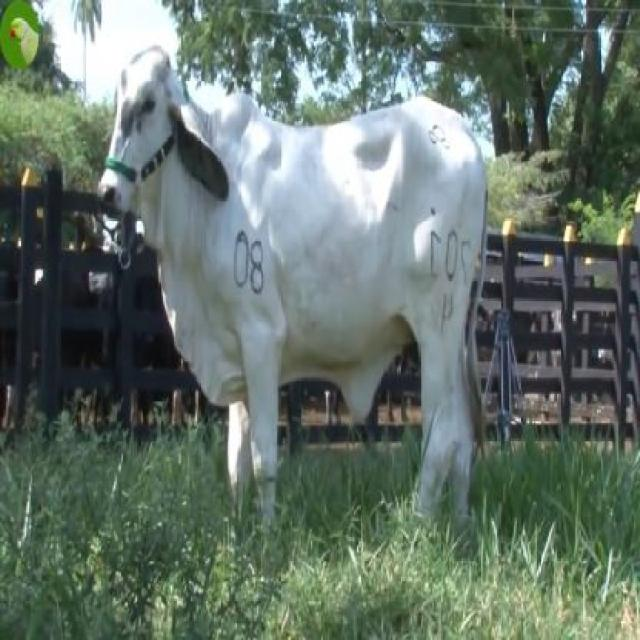Cow: (100, 49, 486, 554)
